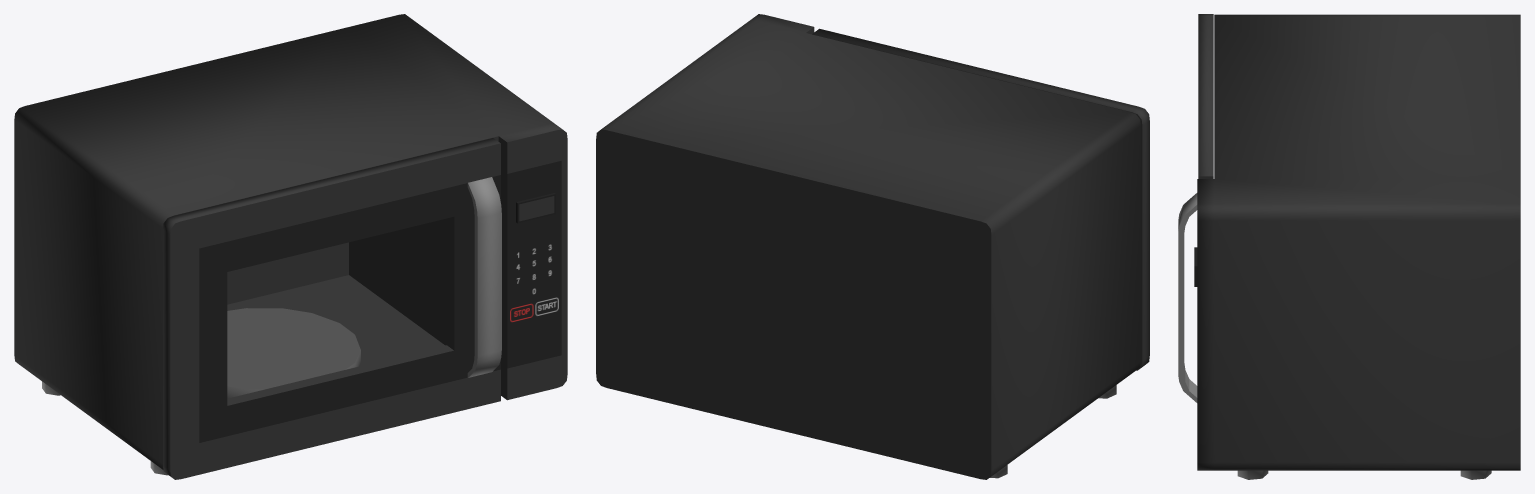
Rendered from microwave.glb.
3 renders of one model, left to right at view 1: azimuth 30°, elevation 25°; view 2: azimuth 150°, elevation 25°; view 3: azimuth 270°, elevation 25°, orthographic. The views are drawn at different scales.
Parts seen in each view (by area): view 1: Microwave, Microwave Door; view 2: Microwave, Microwave Door; view 3: Microwave, Microwave Door.
Part boxes in pixels (box(x1,y1,x2,y2)): Microwave: box(14, 14, 567, 475); Microwave Door: box(163, 138, 501, 479); Microwave: box(596, 14, 1140, 479); Microwave Door: box(812, 28, 1149, 370); Microwave: box(1194, 14, 1520, 479); Microwave Door: box(1178, 14, 1213, 402).
Size of the model in its own units: 0.7271 by 0.4719 by 0.5305.
4 materials, 4 textured.
